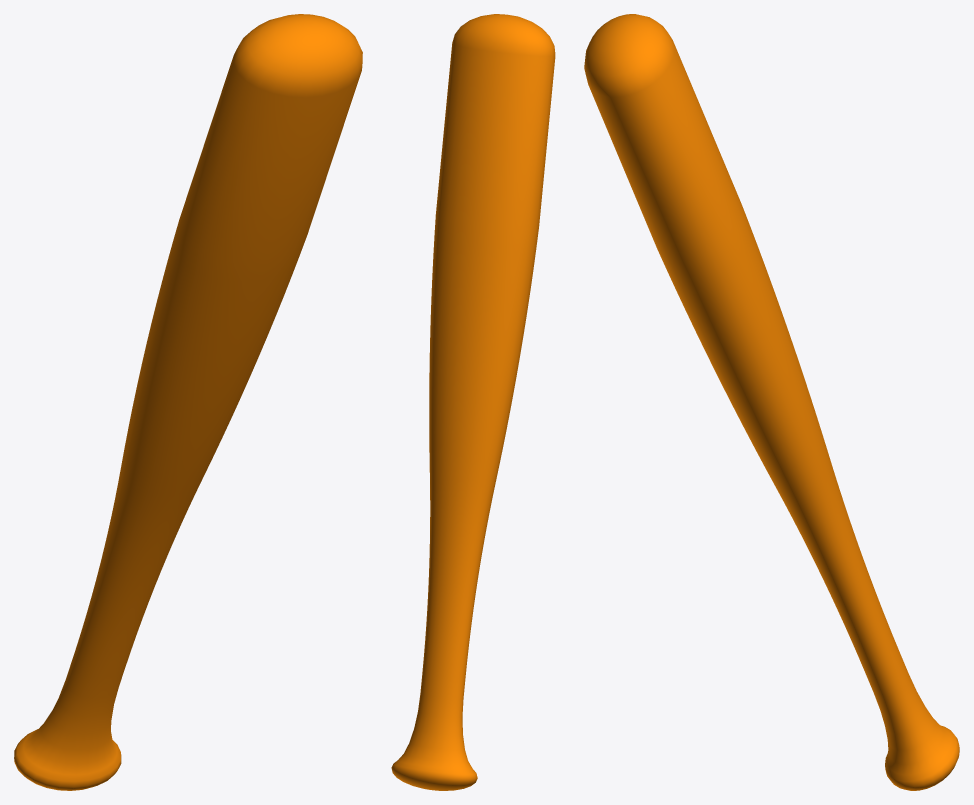
The model's file is Weapon0.fbx.
3 views of the same model, side by side, from view 1: azimuth 30°, elevation 25°; view 2: azimuth 150°, elevation 25°; view 3: azimuth 270°, elevation 25° (orthographic). The views are drawn at different scales.
Parts seen in each view (by area): view 1: Bat; view 2: Bat; view 3: Bat.
Boxes of the visible parts, <box> form: Bat: <box>14,14,362,790</box>; Bat: <box>391,14,555,790</box>; Bat: <box>584,14,959,790</box>.
Size of the model in its own units: 29.54 by 133 by 57.5.
